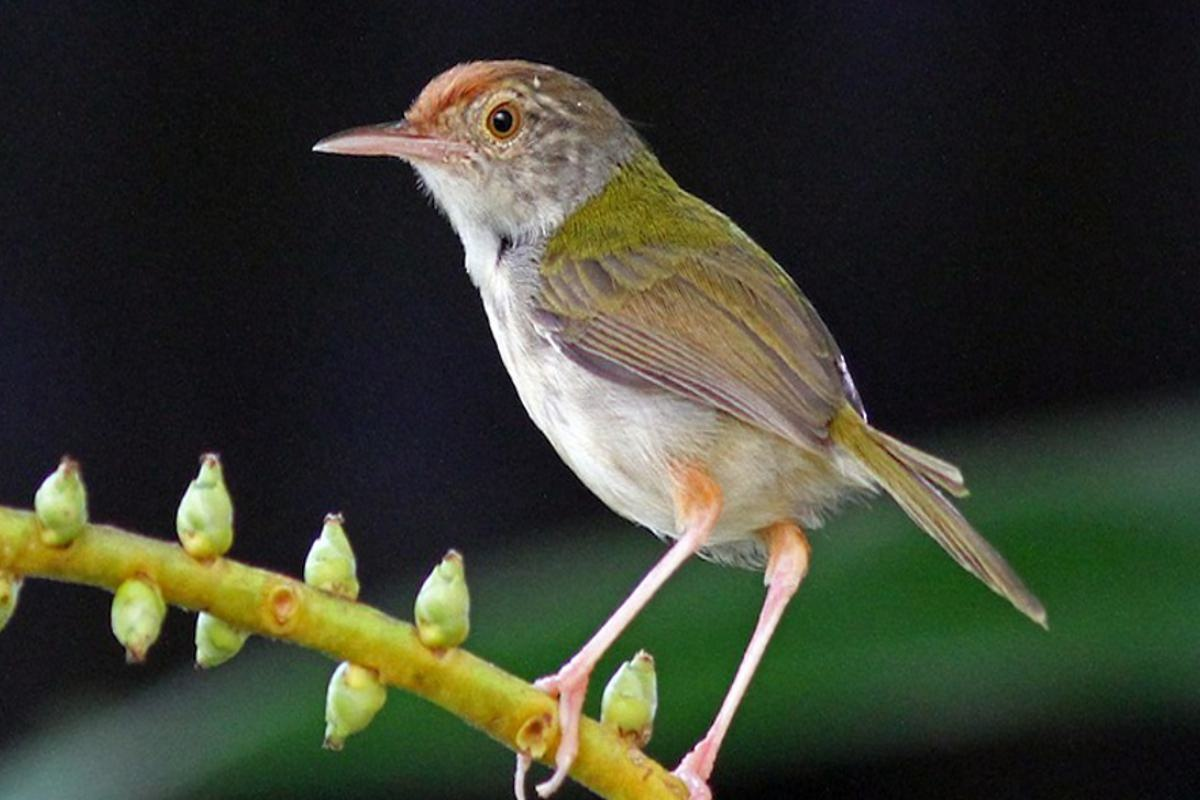tailorbird: (360, 36, 1017, 737)
